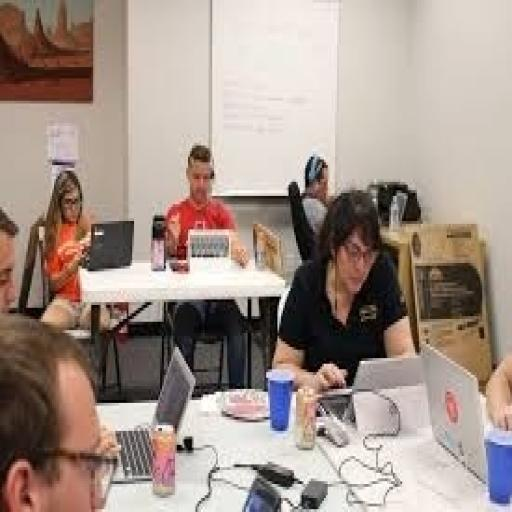sitting: (270, 184, 417, 392), (160, 140, 253, 389), (37, 165, 112, 333)
